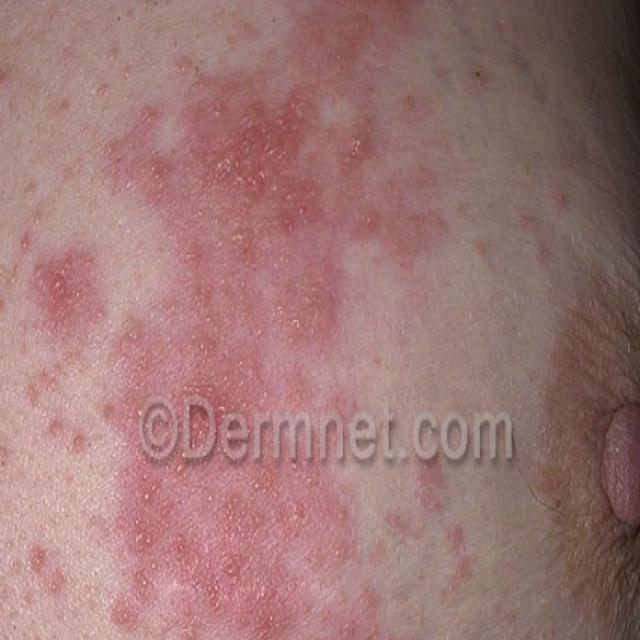Viral Infections: (137, 34, 454, 640), (10, 165, 179, 506), (464, 17, 616, 215), (400, 584, 545, 640)
